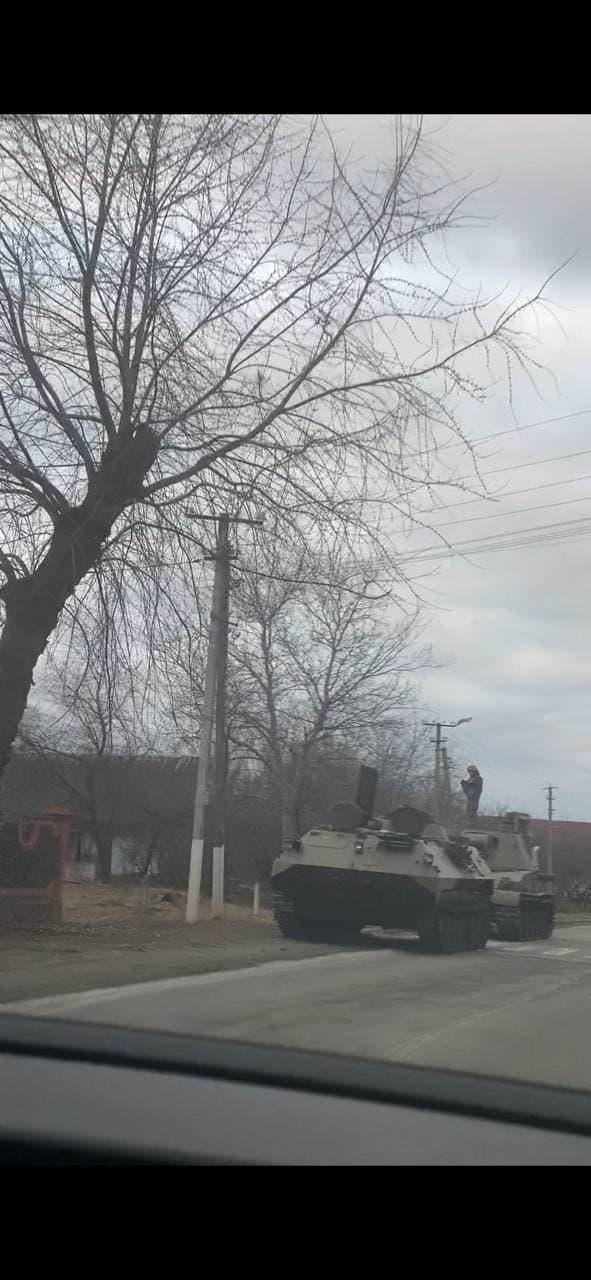person: (447, 764, 494, 816)
tank: (254, 815, 482, 947), (448, 814, 568, 958)
